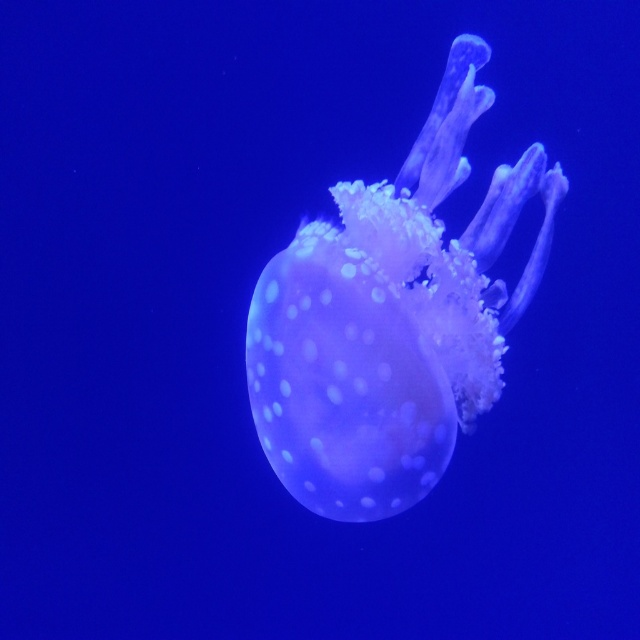Jellyfish: (241, 62, 558, 526)
